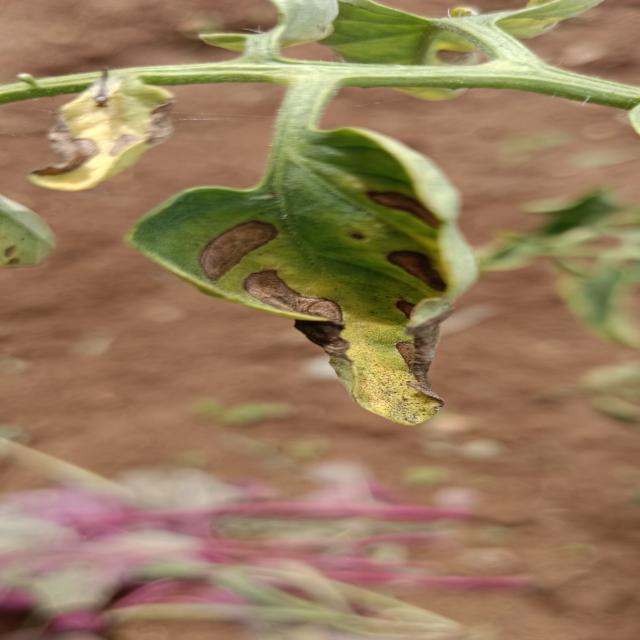tomato_early blight: (127, 85, 477, 425), (27, 71, 171, 190)
